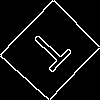T: (25, 25, 80, 80)
